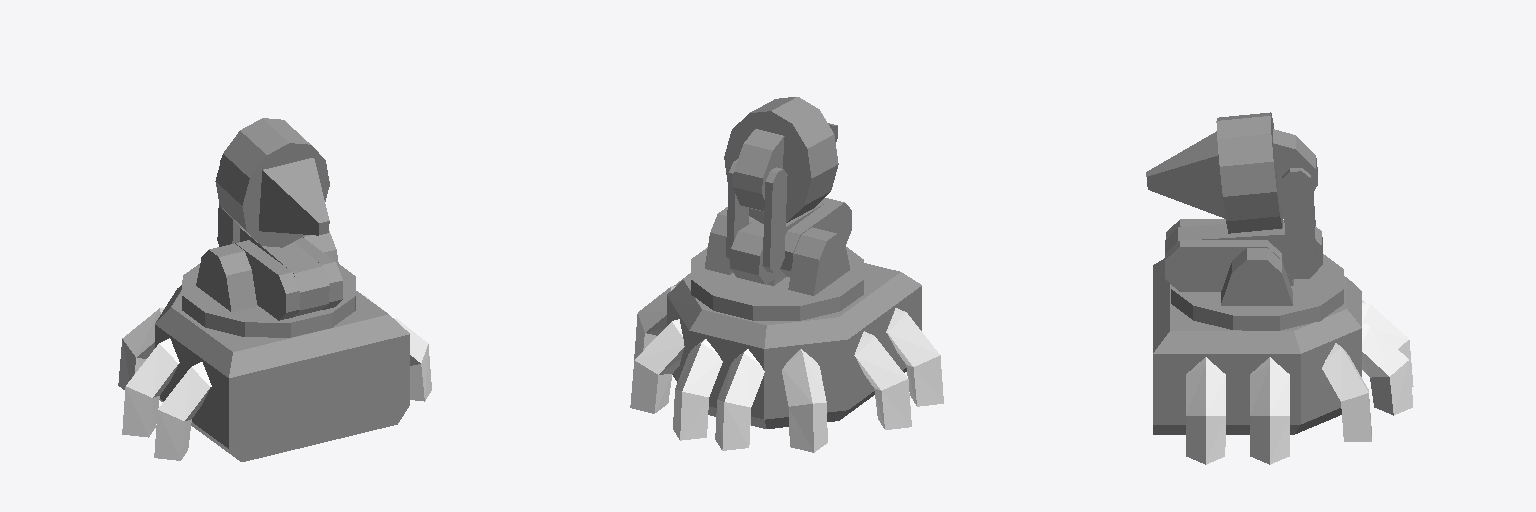
Rendered from spider.obj.
3 renders of one model, left to right at view 1: azimuth 30°, elevation 25°; view 2: azimuth 150°, elevation 25°; view 3: azimuth 270°, elevation 25°, orthographic.
Visible parts, largest first — view 1: base1, turret_turret.002, cylinder_cylinder.001, nozzle_nozzle.001, arm_arm_1.001, arm2_arm_2.001, arm3_arm_3.001; view 2: base1, turret_turret.002, cylinder_cylinder.001, arm3_arm_3.001, nanobase_nanobase.001, arm2_arm_2.001, arm_arm_1.001; view 3: base1, turret_turret.002, cylinder_cylinder.001, arm_arm_1.001, nozzle_nozzle.001, arm3_arm_3.001, arm2_arm_2.001, nanobase_nanobase.001.
Boxes of the visible parts, box(x1,y1,x2,y2) form: base1: box(118, 285, 431, 461); turret_turret.002: box(182, 231, 355, 337); cylinder_cylinder.001: box(215, 118, 329, 247); nozzle_nozzle.001: box(259, 158, 329, 235); arm_arm_1.001: box(235, 237, 342, 320); arm2_arm_2.001: box(240, 227, 329, 316); arm3_arm_3.001: box(217, 160, 239, 246); base1: box(630, 263, 943, 452); turret_turret.002: box(691, 207, 863, 320); cylinder_cylinder.001: box(724, 97, 838, 223); arm3_arm_3.001: box(726, 159, 787, 272); nanobase_nanobase.001: box(733, 129, 784, 211); arm2_arm_2.001: box(730, 198, 830, 284); arm_arm_1.001: box(749, 199, 851, 276); base1: box(1153, 258, 1413, 464); turret_turret.002: box(1171, 248, 1343, 330); cylinder_cylinder.001: box(1216, 112, 1282, 233); arm_arm_1.001: box(1165, 219, 1281, 291); nozzle_nozzle.001: box(1146, 131, 1225, 218); arm3_arm_3.001: box(1282, 168, 1316, 269); arm2_arm_2.001: box(1165, 220, 1322, 279); nanobase_nanobase.001: box(1273, 129, 1317, 218).
Bounding box in the file's own units: 59.15 × 57.36 × 49.22.